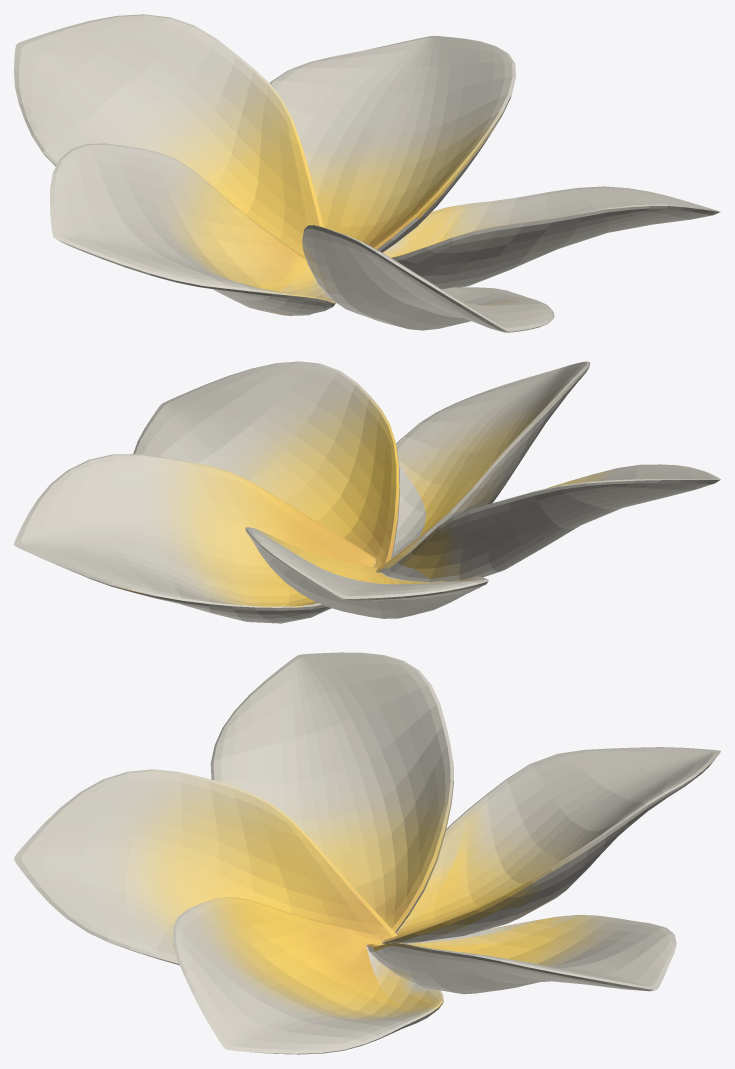
File: FLO 1 DOWN.fbx
3 views of the same model, one above another, from view 1: azimuth 30°, elevation 25°; view 2: azimuth 150°, elevation 25°; view 3: azimuth 270°, elevation 25° (orthographic). The views are drawn at different scales.
Parts seen in each view (by area): view 1: Plane.004; view 2: Plane.004; view 3: Plane.004.
Part boxes in pixels (x1,y1,x2,y2): Plane.004: [14, 14, 720, 332]; Plane.004: [14, 361, 720, 623]; Plane.004: [14, 652, 720, 1054].
Size of the model in its own units: 458 by 461 by 136.
Materials: 1 (1 with a texture image).
